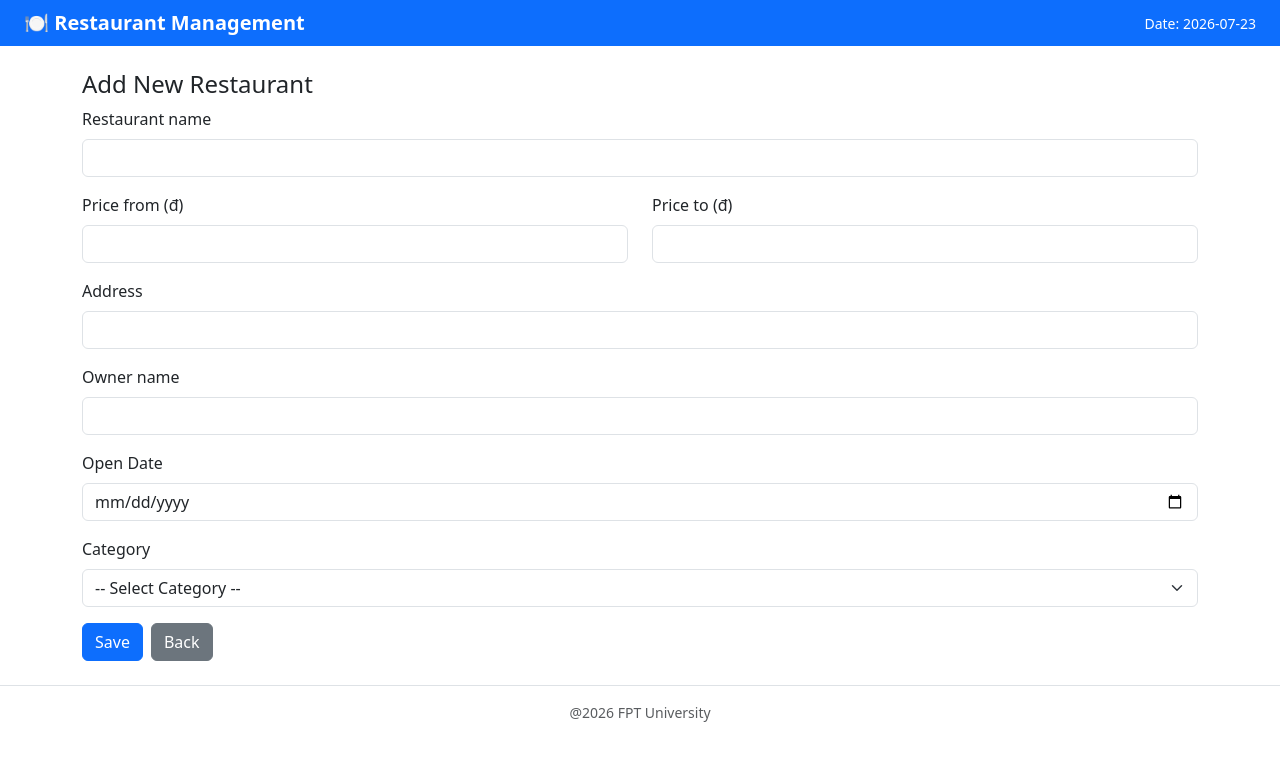
Test: AddNewRestaurantPage — validation › hiển thị lỗi MS01 khi submit form rỗng
What coordinates should you click on to do the following:
click the button "Save"
I would click on:
 (112, 642)
Its box is [82,623,143,661].
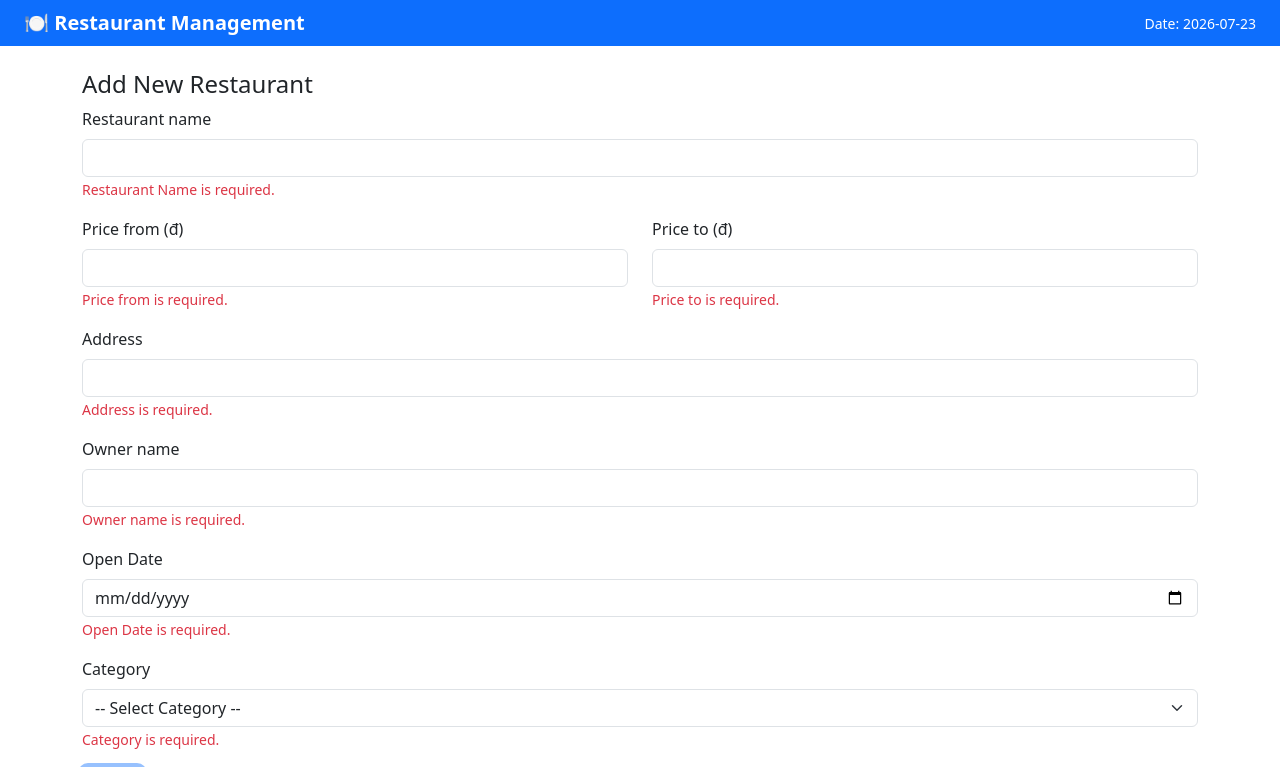
Result: the text "Restaurant Name is required." is shown at [82,180,275,199]
